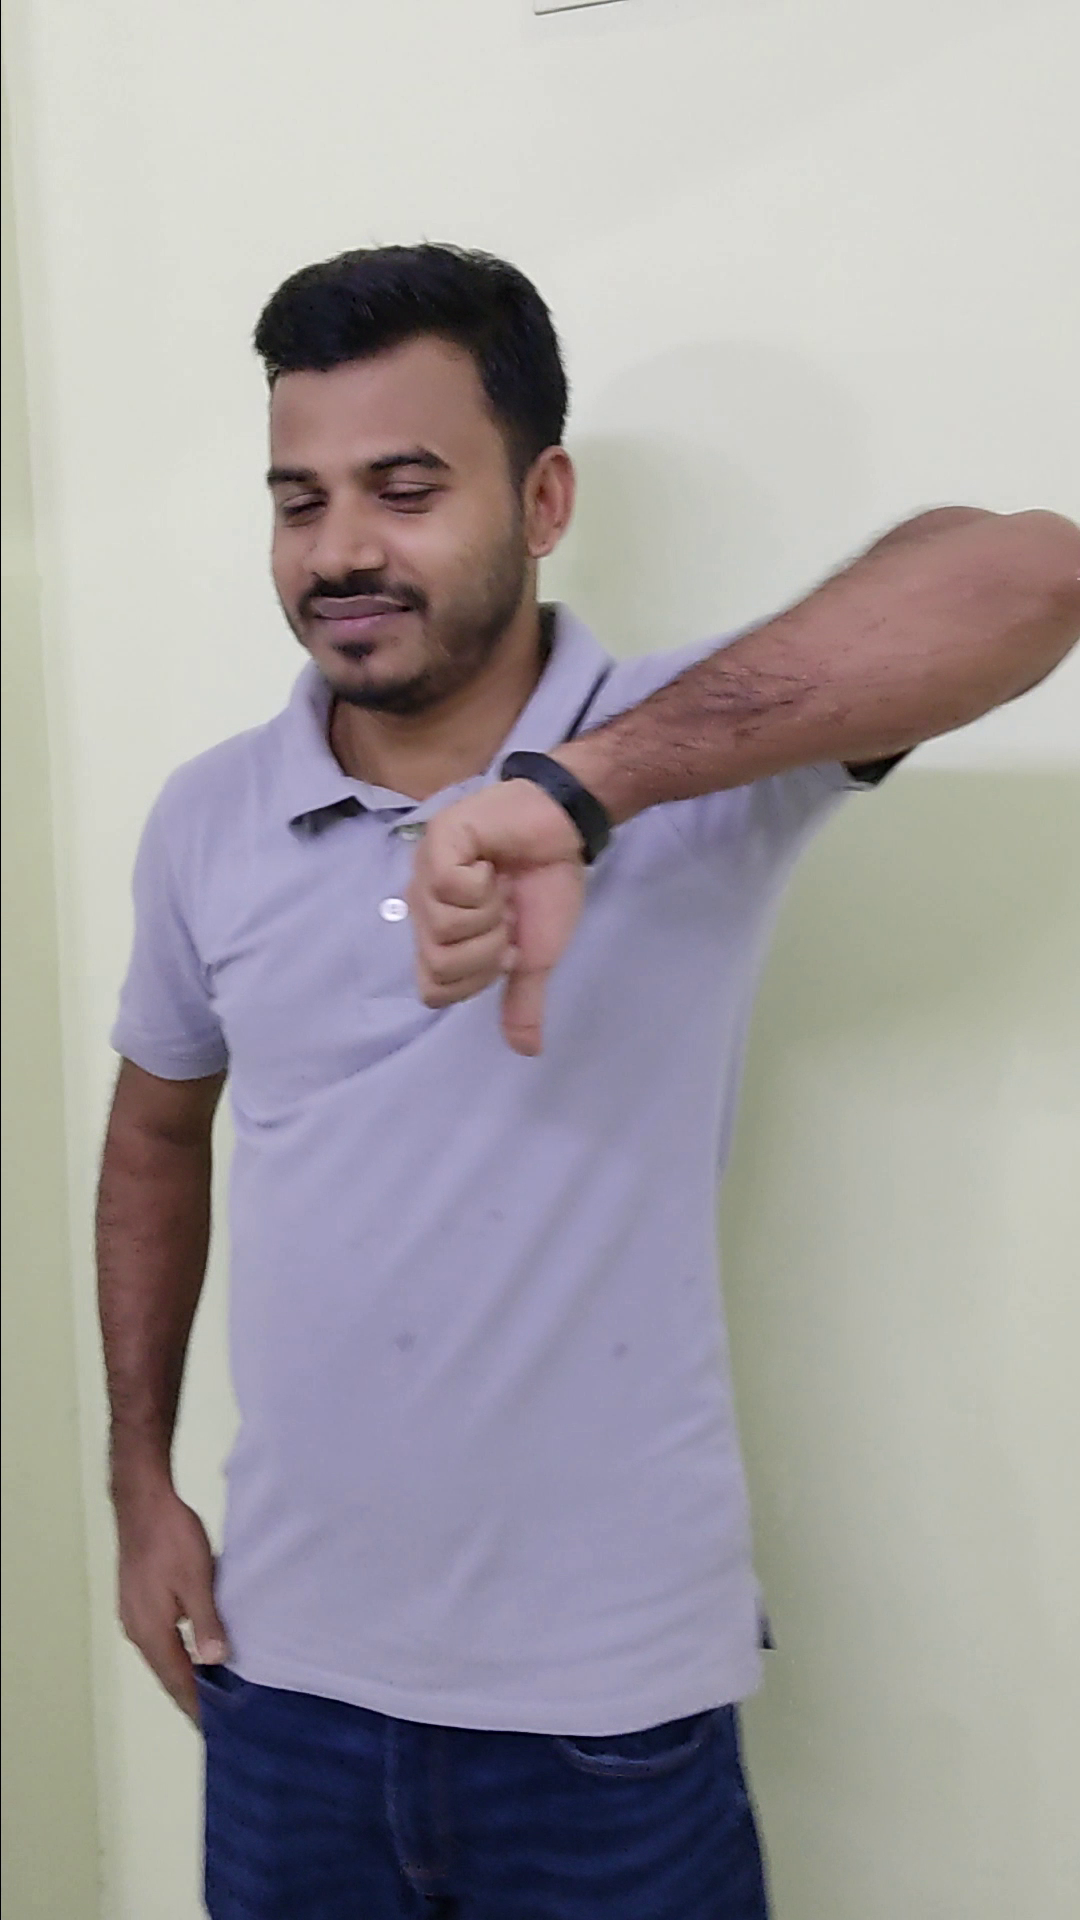Dislike: (376, 736, 603, 1069)
None: (86, 1444, 233, 1737)
